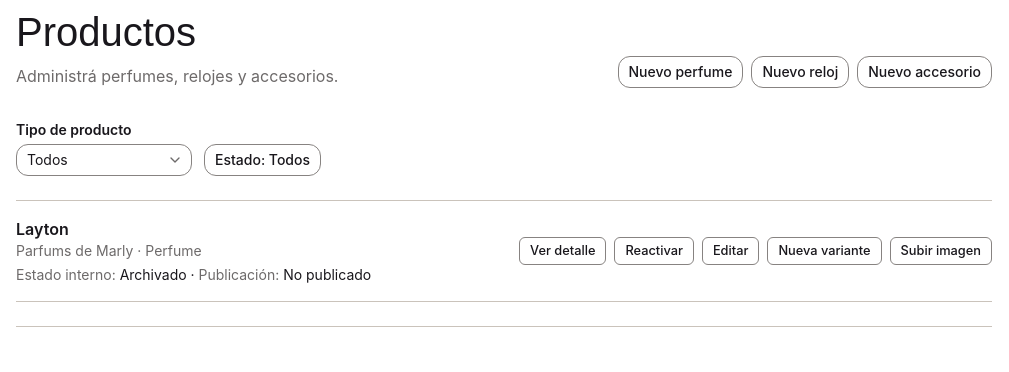
Scenario: RN-CAT-04 · reactivar un archivado › si la API rechaza la reactivación, muestra el rechazo junto al producto y no avisa éxito
Click the button with aria-label "Reactivar Layton": (654, 251) x1=614 y1=237 x2=694 y2=265
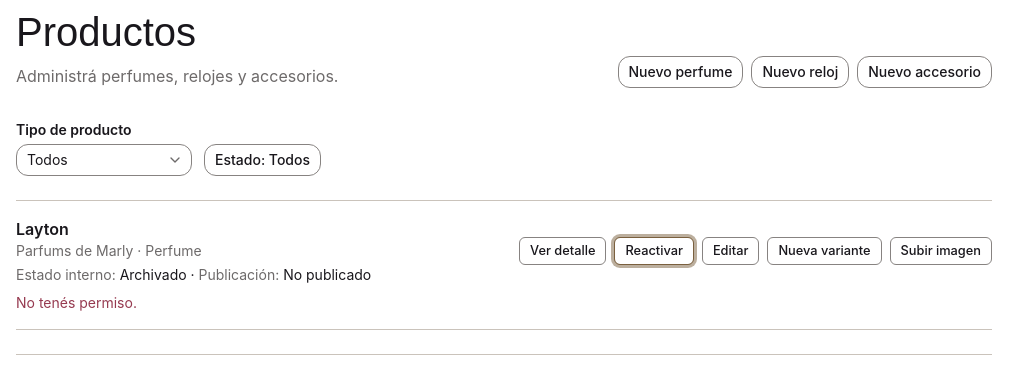
Expected: the text "No tenés permiso." is shown, x1=16 y1=294 x2=137 y2=311
